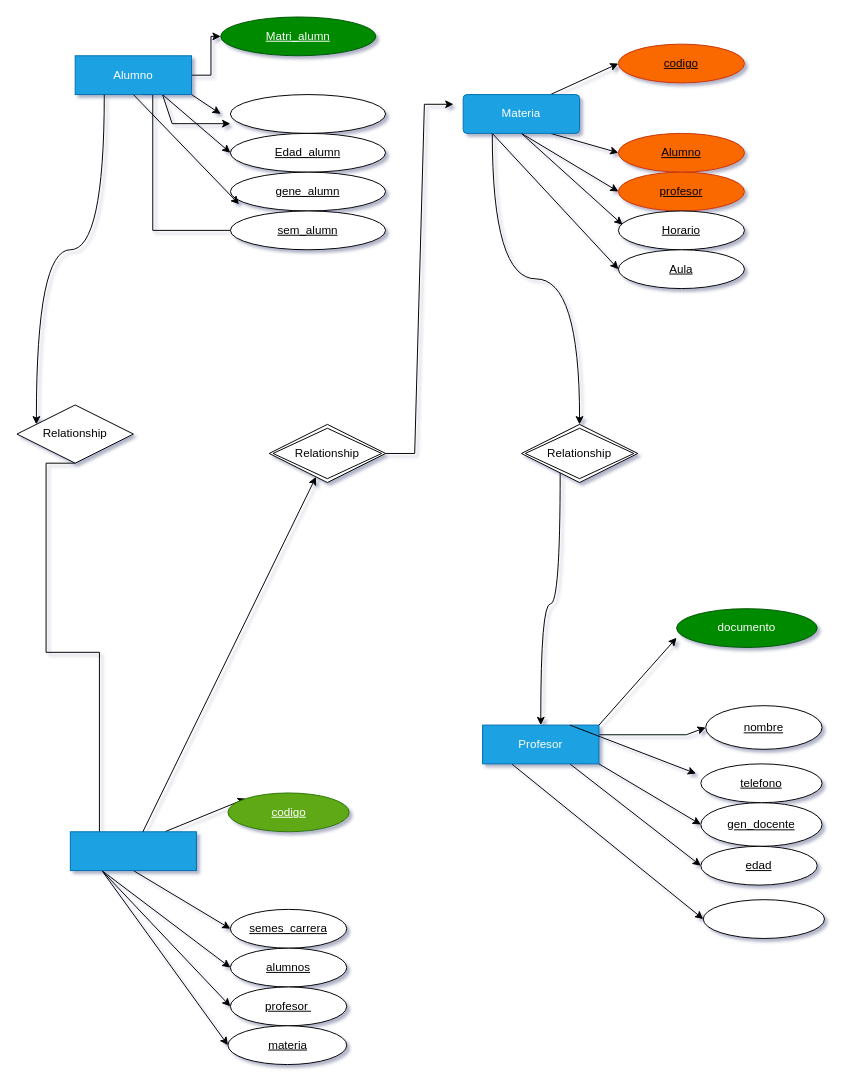
Image size: 856x1087. Some labels were removed from this diagram. Each missing label, with the centre of its shape:
carrera: point (132, 851)
nombre_alumn: point (307, 113)
sueldo: point (763, 918)
